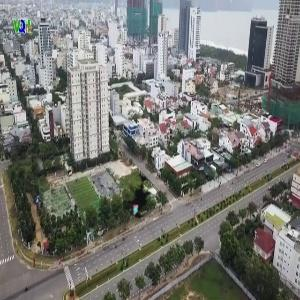drone: (101, 160, 174, 233)
